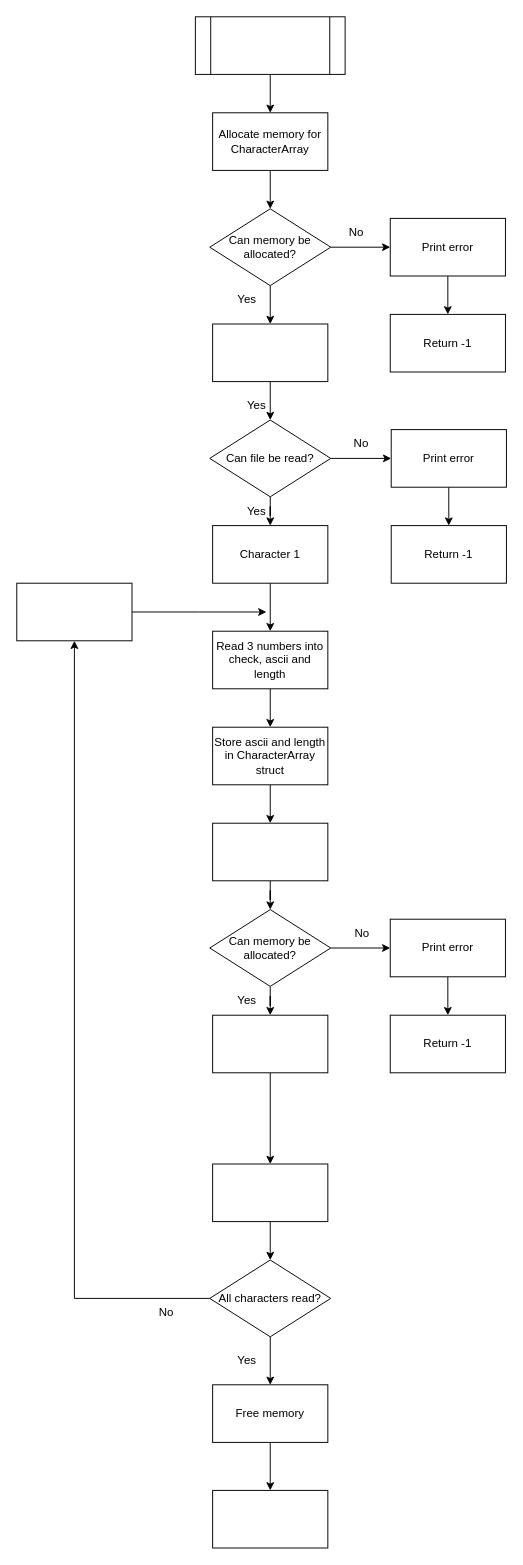
Some shapes in this 523 by 1565 pixel diagram are drawn without their labels. Each missing label, with the centre of its shape:
"Allocate memory for X, Y, Pen arrays" goes at (x=270, y=851).
"F_FontDataToStruct" goes at (x=269, y=45).
"Next character" goes at (x=74, y=611).
"Open font file" goes at (x=270, y=352).
"Read X, Y, Pen values into arrays on loop for length" goes at (x=270, y=1043).
"Return 0" goes at (x=270, y=1518).
"Store X, Y and Pen arrays in CharacterArray struct" goes at (x=270, y=1192).
